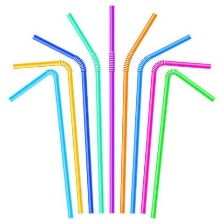drinking_straw: (145, 65, 218, 221), (3, 64, 76, 220), (63, 8, 106, 214), (119, 8, 160, 216), (104, 2, 117, 214)
